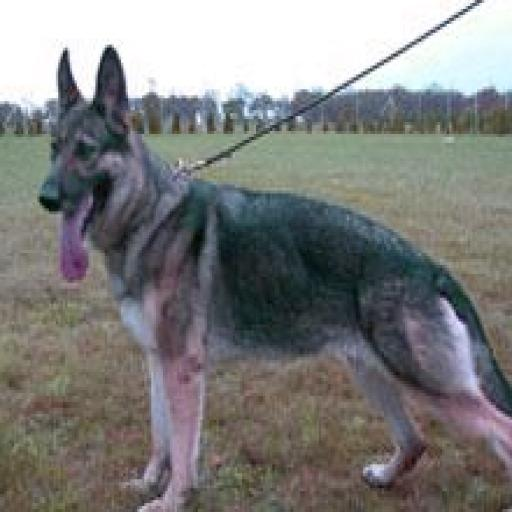dog_face: (45, 45, 134, 250)
